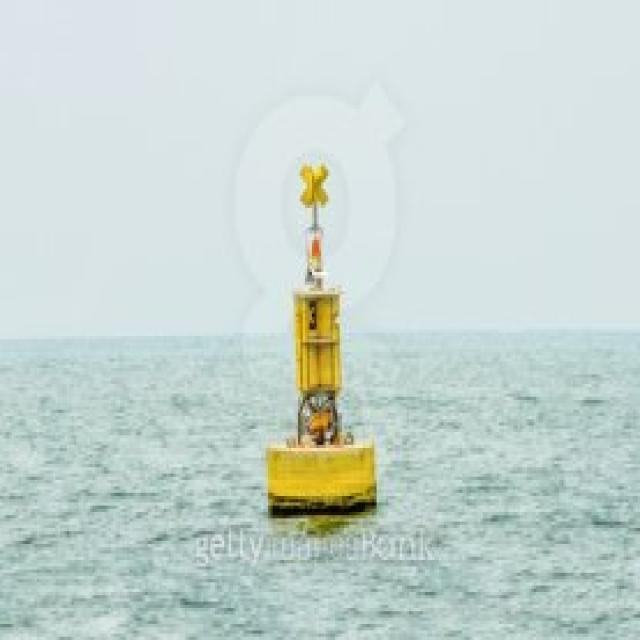2.5 sepcial mark: (242, 134, 395, 528)
